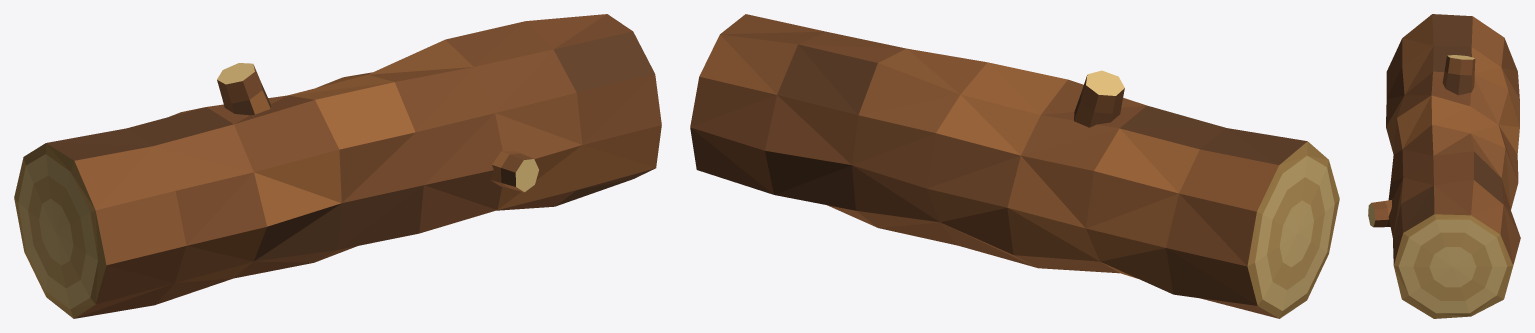
The model's file is FMS_Wood_Log.fbx.
3 views of the same model, side by side, from view 1: azimuth 30°, elevation 25°; view 2: azimuth 150°, elevation 25°; view 3: azimuth 270°, elevation 25° (orthographic). The views are drawn at different scales.
Visible parts, largest first — view 1: FMS_Wood_Log; view 2: FMS_Wood_Log; view 3: FMS_Wood_Log.
Part boxes in pixels (x1,y1,x2,y2): FMS_Wood_Log: [14, 14, 661, 318]; FMS_Wood_Log: [690, 14, 1339, 318]; FMS_Wood_Log: [1368, 14, 1520, 318].
Bounding box in the file's own units: 2.03 × 0.6731 × 0.6645.
